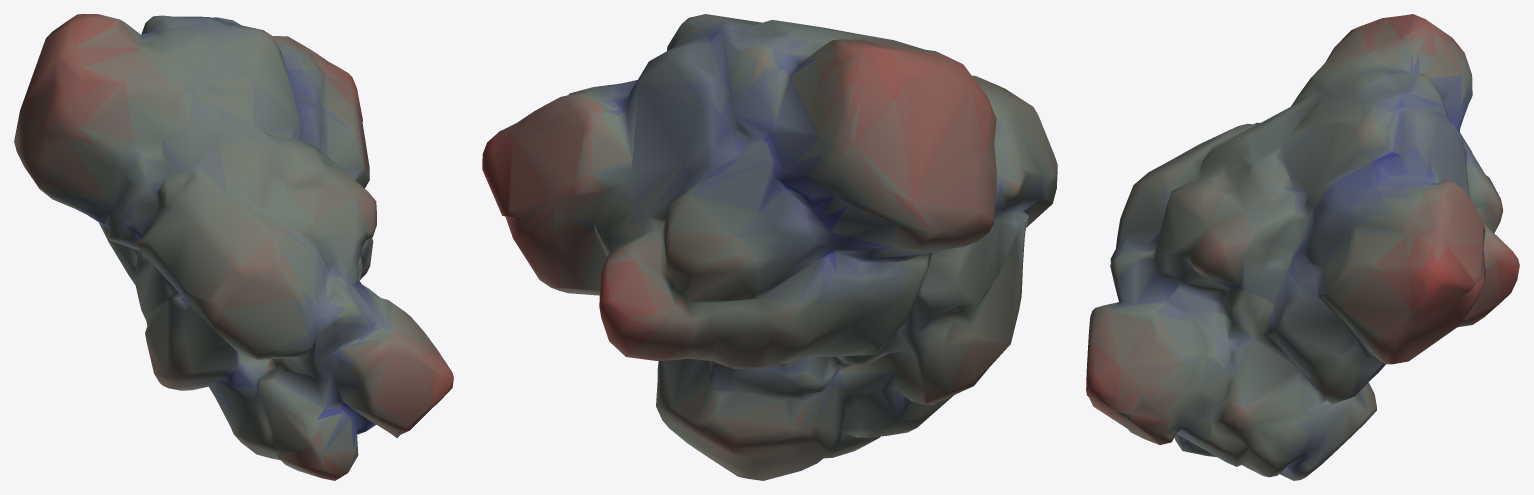
Rendered from rock_clump_01.fbx.
The picture shows the model from 3 angles, left to right: view 1: azimuth 30°, elevation 25°; view 2: azimuth 150°, elevation 25°; view 3: azimuth 270°, elevation 25°; orthographic projection. The views are drawn at different scales.
Parts seen in each view (by area): view 1: Rock_Clump_01; view 2: Rock_Clump_01; view 3: Rock_Clump_01.
Part boxes in pixels (box(x1,y1,x2,y2)): Rock_Clump_01: box(14, 14, 453, 480); Rock_Clump_01: box(482, 14, 1057, 480); Rock_Clump_01: box(1086, 14, 1519, 480).
Bounding box in the file's own units: 299 × 330 × 336.
